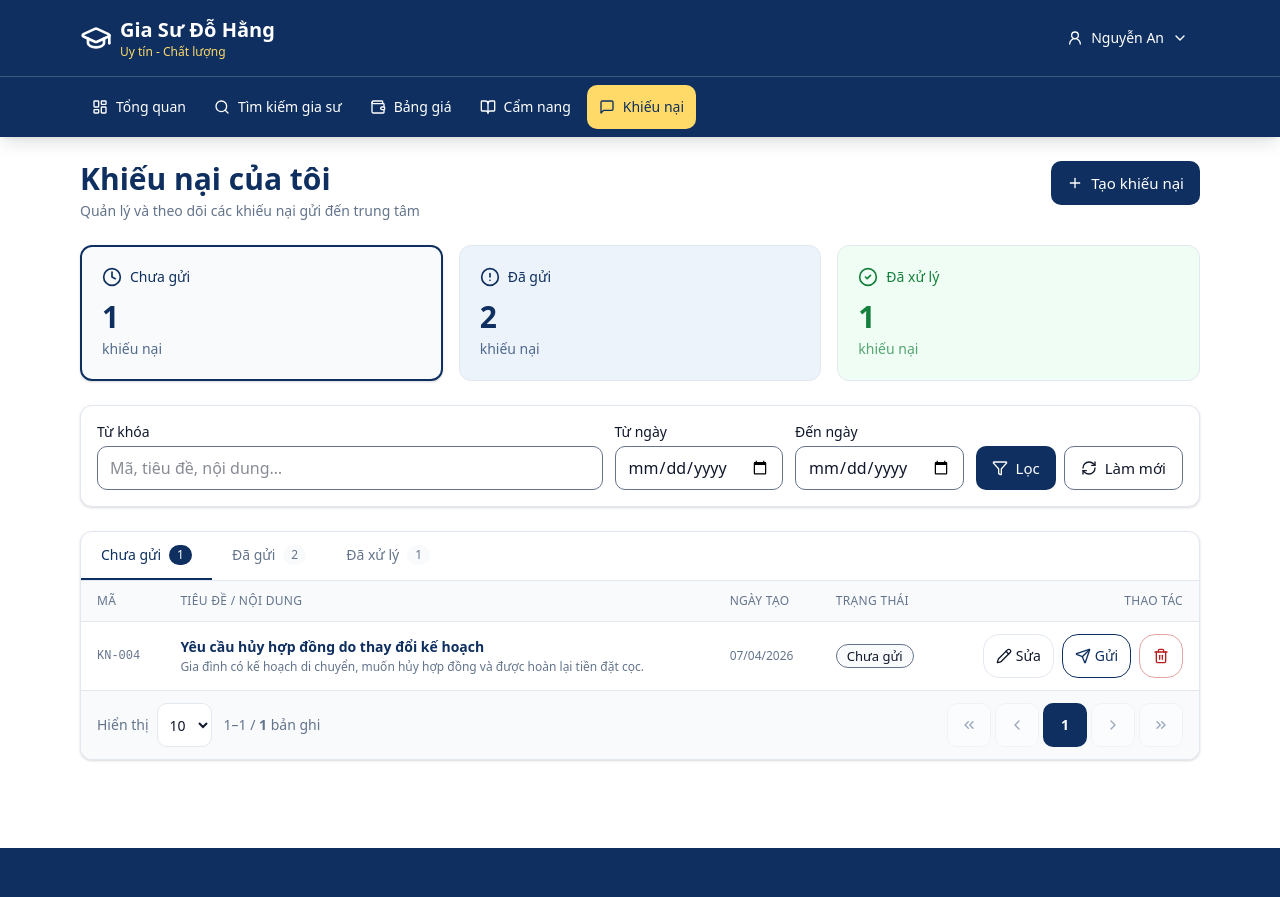
it: learner complaints page › shows status cards and tabs, and sends or deletes a draft from its row
Expected: the heading "Khiếu nại của tôi" is shown, [80, 158, 331, 199]
Expected: the text "Yêu cầu hủy hợp đồng do thay đổi kế hoạch" is shown, [180, 637, 484, 656]
Click the button with aria-label "Gửi KN-004" at (1096, 656), box [1062, 634, 1131, 678]
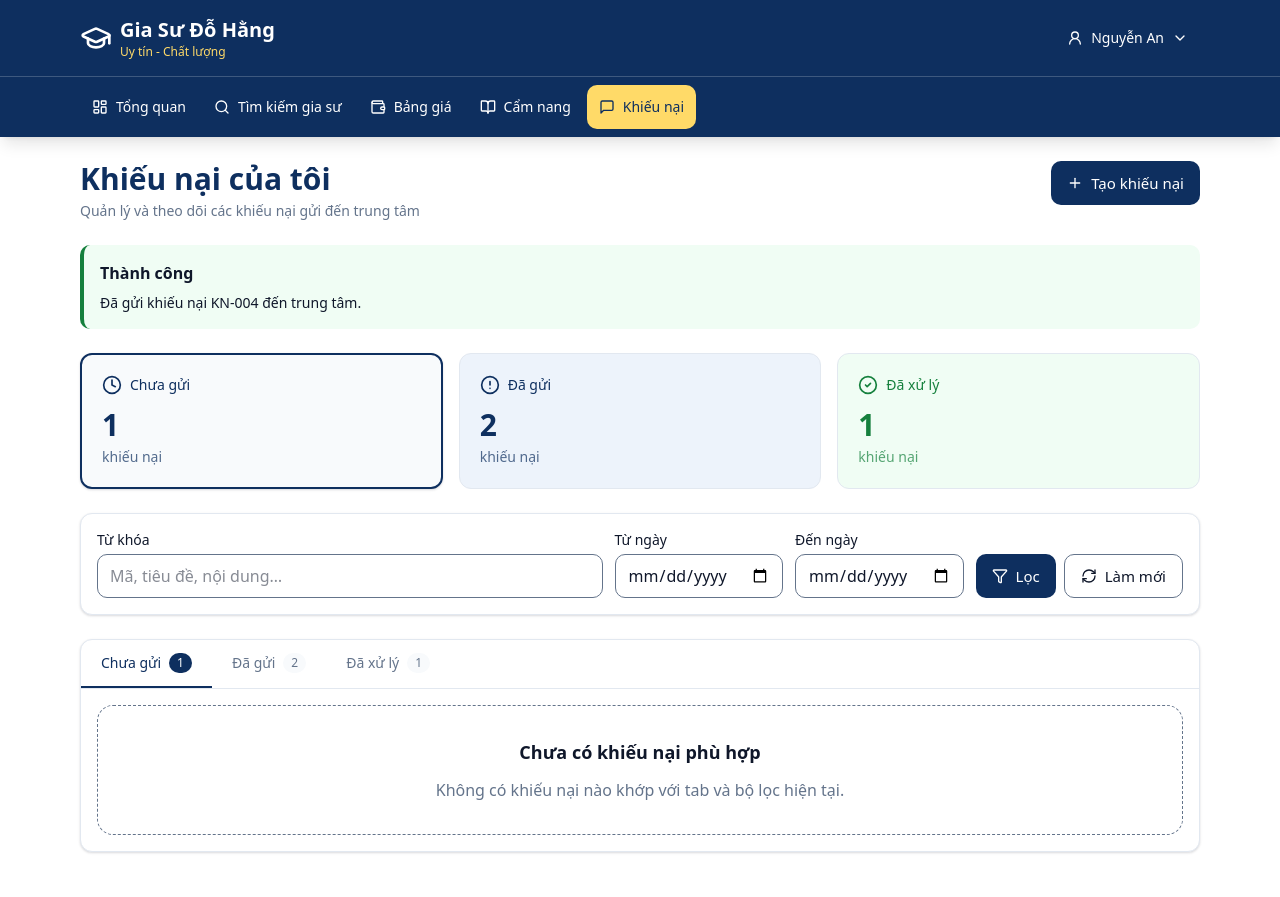
Now the text "Đã gửi khiếu nại KN-004 đến trung tâm." is shown, box [100, 293, 361, 312]
